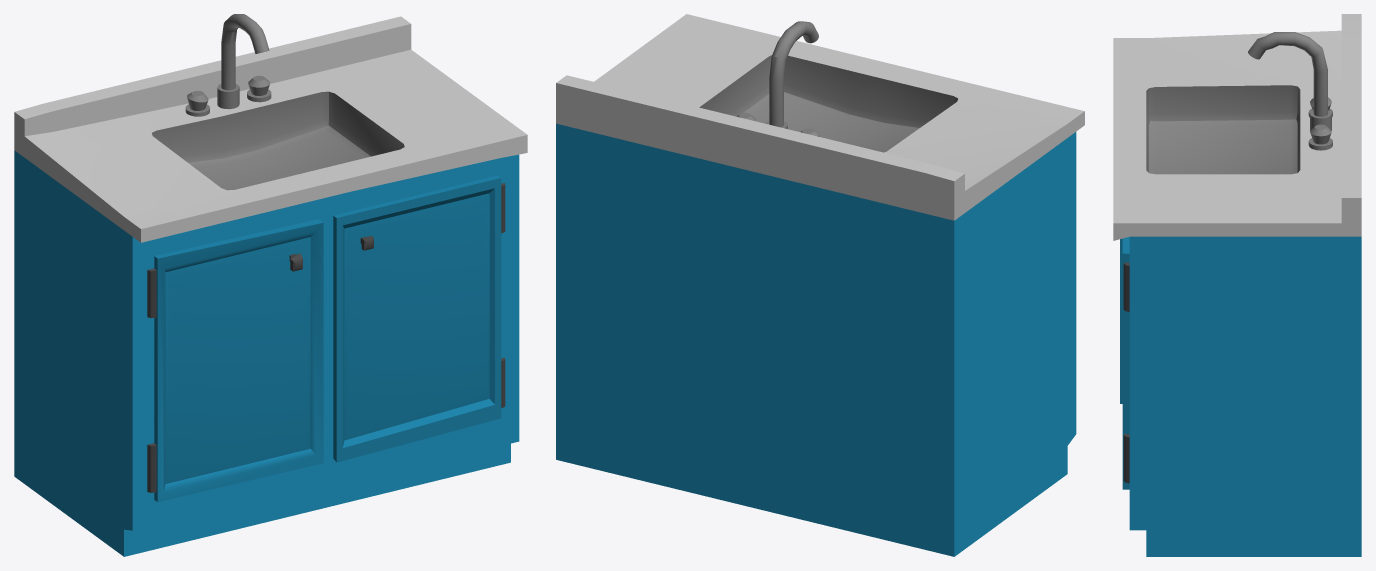
Rendered from sink.fbx.
The picture shows the model from 3 angles, left to right: view 1: azimuth 30°, elevation 25°; view 2: azimuth 150°, elevation 25°; view 3: azimuth 270°, elevation 25°; orthographic projection. The views are drawn at different scales.
Visible parts, largest first — view 1: Sink; view 2: Sink; view 3: Sink.
Part boxes in pixels (bbox=[...]): Sink: bbox=[14, 14, 527, 556]; Sink: bbox=[556, 14, 1084, 556]; Sink: bbox=[1113, 14, 1361, 556].
Size of the model in its own units: 200 by 113 by 218.
